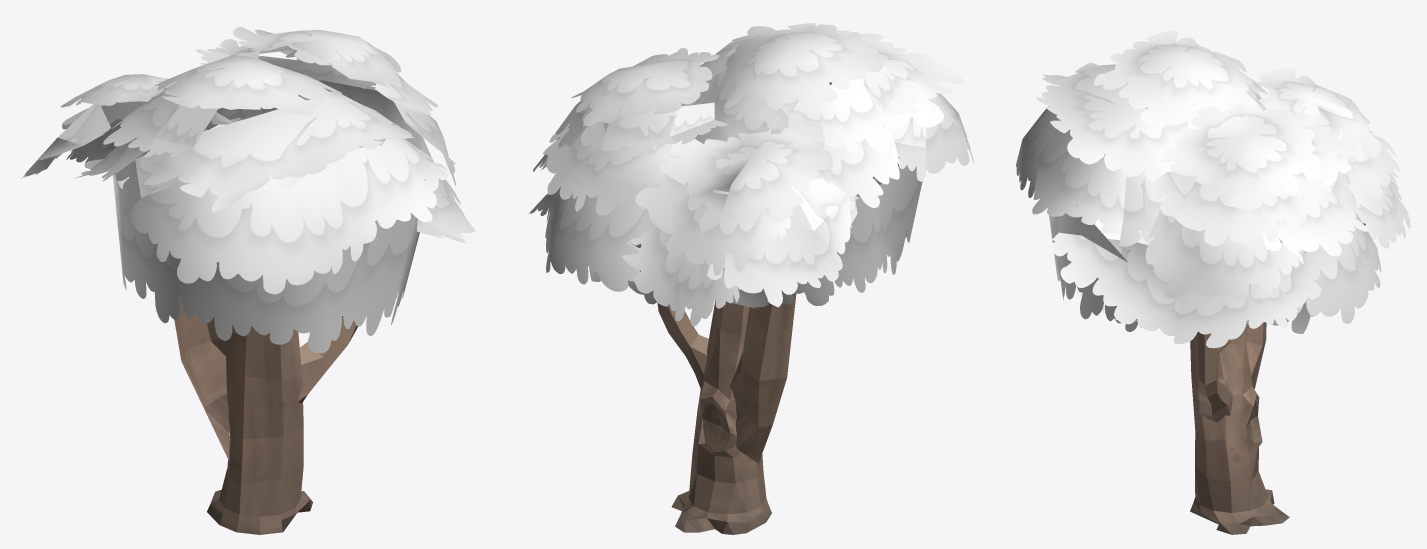
The model's file is TreeOakLargeFruitOrchard.fbx.
3 renders of one model, left to right at view 1: azimuth 30°, elevation 25°; view 2: azimuth 150°, elevation 25°; view 3: azimuth 270°, elevation 25°, orthographic. The views are drawn at different scales.
Parts seen in each view (by area): view 1: TreeOakLargeCanopy1, TreeOakTrunkLargeA, TreeOakLargeCanopy3, TreeOakLargeCanopy2, TreeOakStumpLargeA; view 2: TreeOakLargeCanopy1, TreeOakLargeCanopy2, TreeOakTrunkLargeA, TreeOakLargeCanopy3, TreeOakStumpLargeA; view 3: TreeOakLargeCanopy1, TreeOakLargeCanopy3, TreeOakTrunkLargeA, TreeOakLargeCanopy2, TreeOakStumpLargeA.
Part boxes in pixels (x1=…): TreeOakLargeCanopy1: x1=74, y1=55, x2=478, y2=353; TreeOakTrunkLargeA: x1=174, y1=297, x2=358, y2=516; TreeOakLargeCanopy3: x1=196, y1=27, x2=456, y2=185; TreeOakLargeCanopy2: x1=21, y1=74, x2=243, y2=178; TreeOakStumpLargeA: x1=207, y1=490, x2=312, y2=534; TreeOakLargeCanopy1: x1=528, y1=23, x2=974, y2=309; TreeOakLargeCanopy2: x1=621, y1=127, x2=851, y2=326; TreeOakTrunkLargeA: x1=657, y1=293, x2=796, y2=514; TreeOakLargeCanopy3: x1=533, y1=47, x2=727, y2=215; TreeOakStumpLargeA: x1=671, y1=491, x2=771, y2=534; TreeOakLargeCanopy1: x1=1016, y1=30, x2=1381, y2=348; TreeOakLargeCanopy3: x1=1145, y1=103, x2=1368, y2=300; TreeOakTrunkLargeA: x1=1190, y1=322, x2=1268, y2=512; TreeOakLargeCanopy2: x1=1256, y1=68, x2=1410, y2=248; TreeOakStumpLargeA: x1=1190, y1=489, x2=1289, y2=534.
Size of what is drawn, in the model's own units: 8.23 by 9.95 by 8.28.
Materials: 1 (1 with a texture image).
